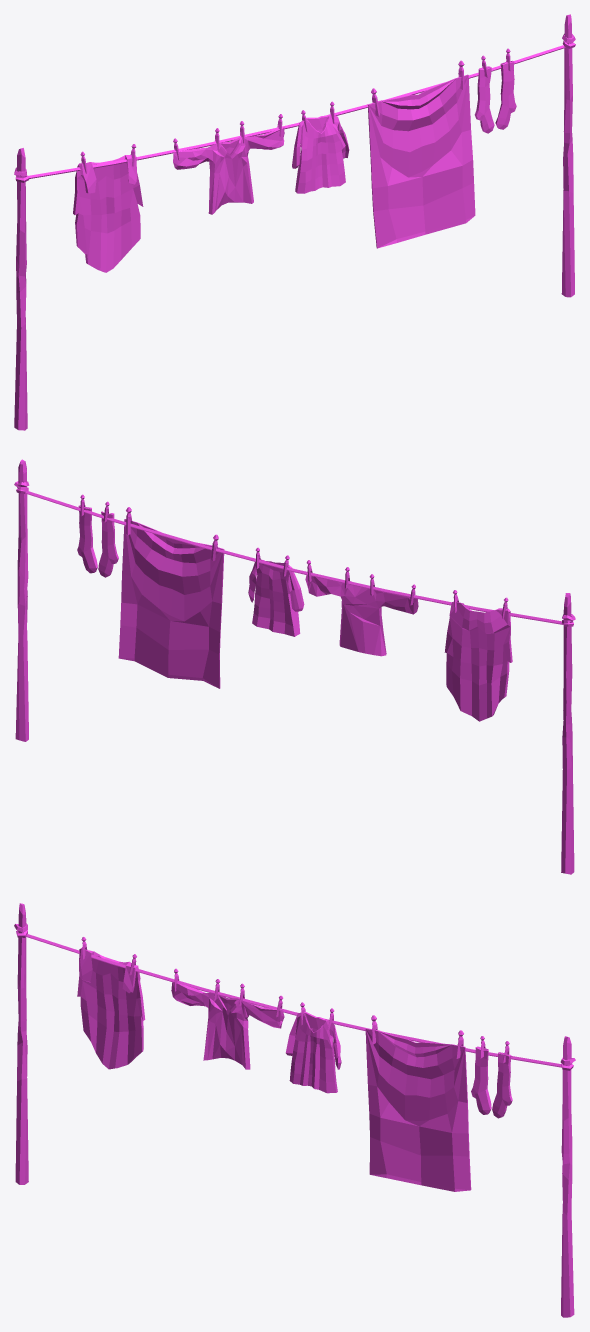
Rendered from SM_Clothesline_Poles_5m_Clothes_Fantasy.fbx.
3 views of the same model, one above another, from view 1: azimuth 30°, elevation 25°; view 2: azimuth 150°, elevation 25°; view 3: azimuth 330°, elevation 25° (orthographic).
Visible parts, largest first — view 1: SM_Clothesline_Poles_5m_Clothes_Fantasy; view 2: SM_Clothesline_Poles_5m_Clothes_Fantasy; view 3: SM_Clothesline_Poles_5m_Clothes_Fantasy.
Part boxes in pixels (x1,y1,x2,y2): SM_Clothesline_Poles_5m_Clothes_Fantasy: (14, 14, 575, 430); SM_Clothesline_Poles_5m_Clothes_Fantasy: (14, 459, 575, 874); SM_Clothesline_Poles_5m_Clothes_Fantasy: (14, 903, 575, 1317).
Size of the model in its own units: 5.12 by 2.45 by 0.2006.
